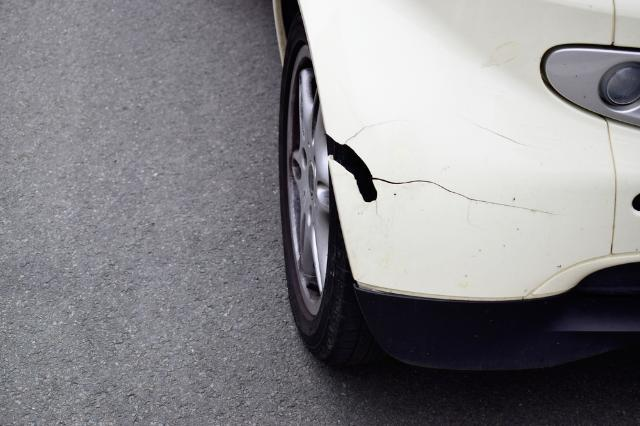crack: (326, 120, 561, 228)
